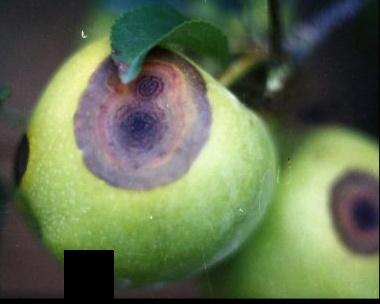rotten apple: (10, 38, 273, 288), (224, 127, 379, 298)
